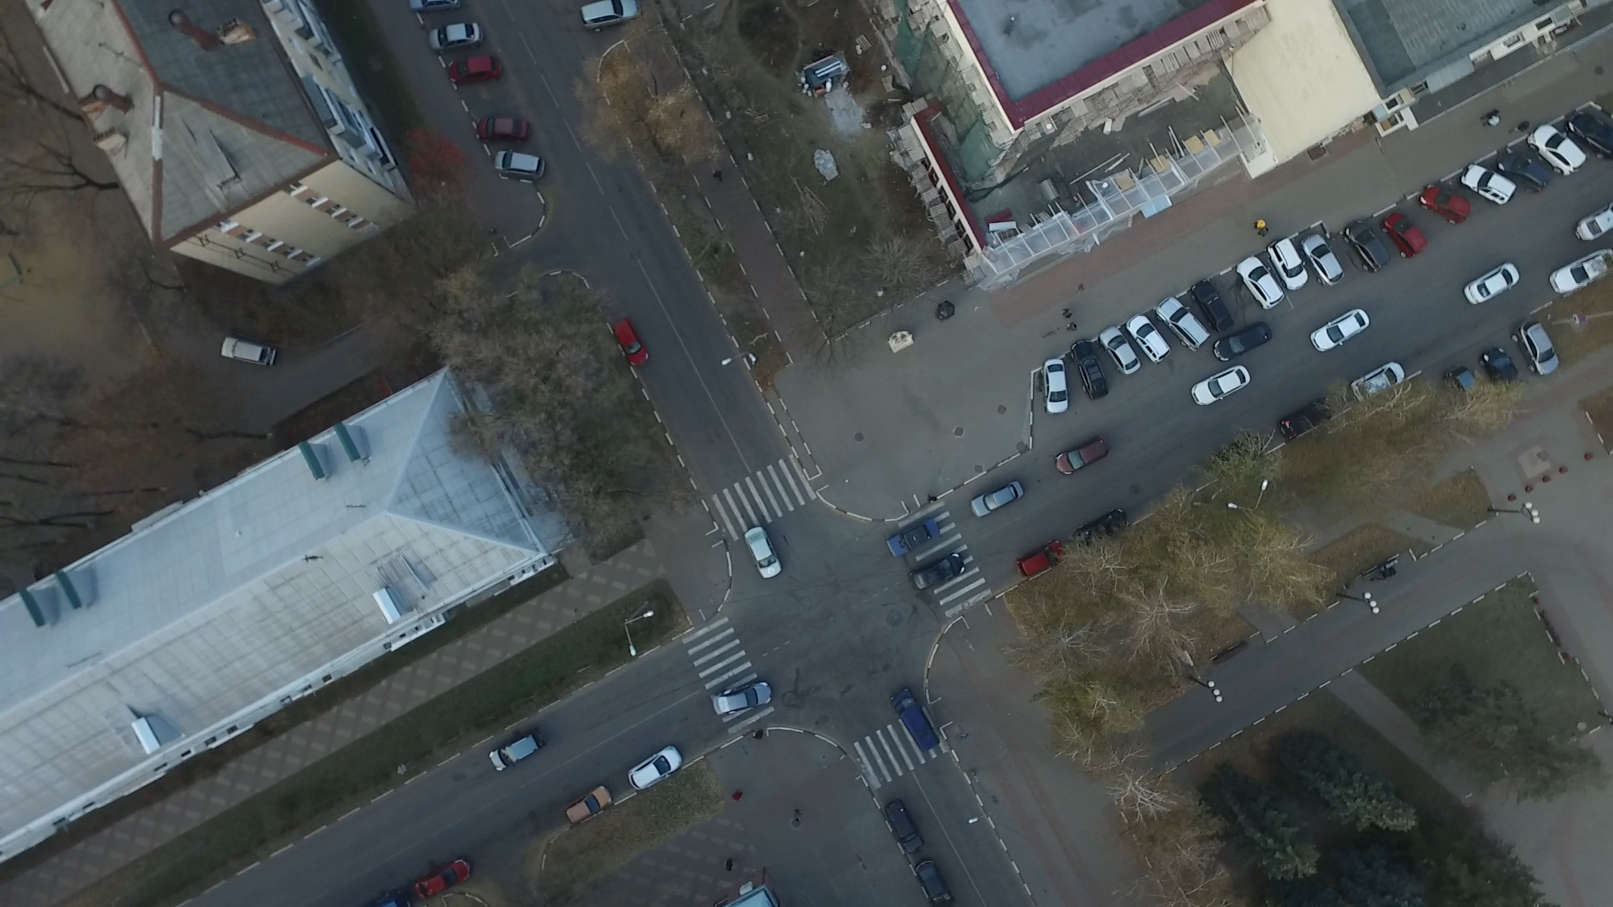car: (1548, 248, 1613, 305), (1525, 121, 1589, 177), (888, 688, 941, 753), (1280, 391, 1345, 441), (1155, 295, 1209, 352), (1511, 320, 1564, 375), (1463, 262, 1525, 308), (411, 857, 472, 903), (1309, 308, 1371, 352), (1190, 367, 1252, 410), (1214, 320, 1277, 362), (1461, 161, 1516, 209), (1237, 254, 1283, 310), (1343, 219, 1388, 276), (628, 743, 684, 789), (1350, 361, 1404, 408), (1072, 336, 1110, 400), (1073, 508, 1128, 552), (907, 554, 967, 592), (1124, 312, 1171, 362), (886, 798, 926, 856), (744, 523, 783, 581), (1194, 279, 1235, 334), (1498, 148, 1550, 192), (887, 516, 941, 558), (1381, 213, 1427, 261), (969, 478, 1028, 516), (708, 682, 772, 717), (1420, 184, 1471, 227), (562, 785, 612, 828), (1055, 436, 1110, 475), (1303, 229, 1342, 285), (490, 731, 542, 772), (1098, 324, 1140, 373), (1268, 237, 1305, 292), (1481, 347, 1520, 399), (1015, 537, 1064, 577), (493, 148, 547, 184), (1040, 360, 1075, 415), (220, 334, 276, 369), (446, 51, 499, 86), (476, 111, 535, 142), (581, 1, 637, 33), (612, 320, 649, 368), (1448, 365, 1484, 413), (913, 862, 951, 906), (430, 21, 482, 50), (1575, 205, 1613, 243)
